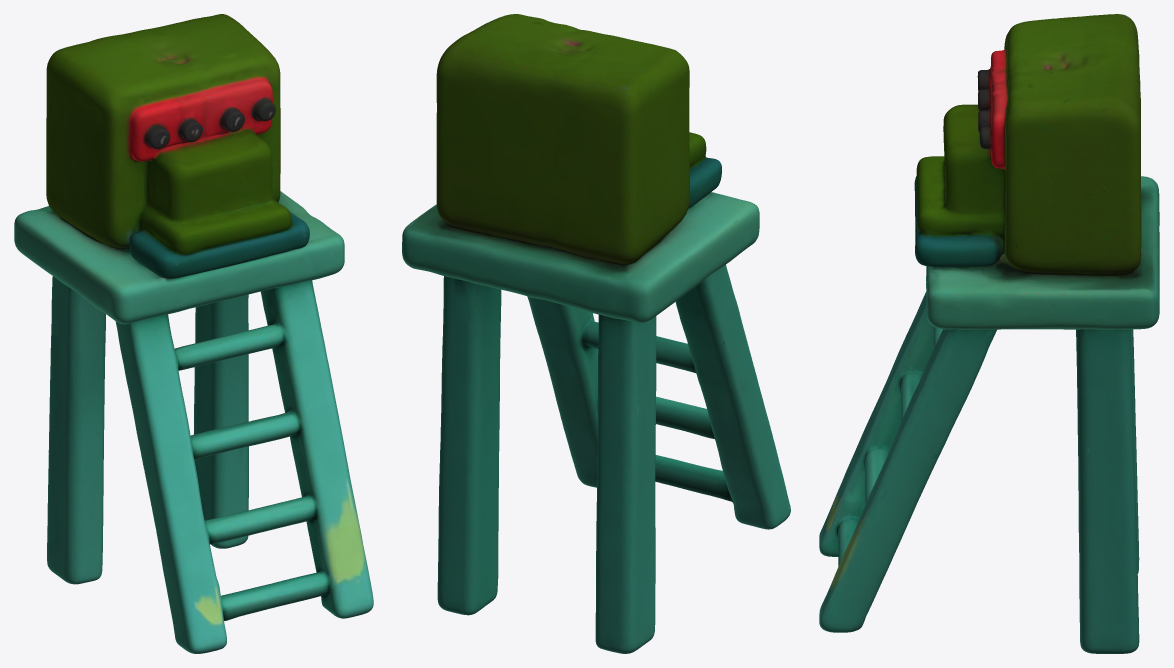
File: ladder.glb
3 views of the same model, side by side, from view 1: azimuth 30°, elevation 25°; view 2: azimuth 150°, elevation 25°; view 3: azimuth 270°, elevation 25° (orthographic). The views are drawn at different scales.
Parts seen in each view (by area): view 1: geometry_0; view 2: geometry_0; view 3: geometry_0.
Part boxes in pixels (x1,y1,x2,y2): geometry_0: [14, 14, 373, 653]; geometry_0: [402, 14, 790, 653]; geometry_0: [819, 14, 1159, 653].
Bounding box in the file's own units: 0.4613 × 0.9999 × 0.5565.
1 material, 1 textured.
